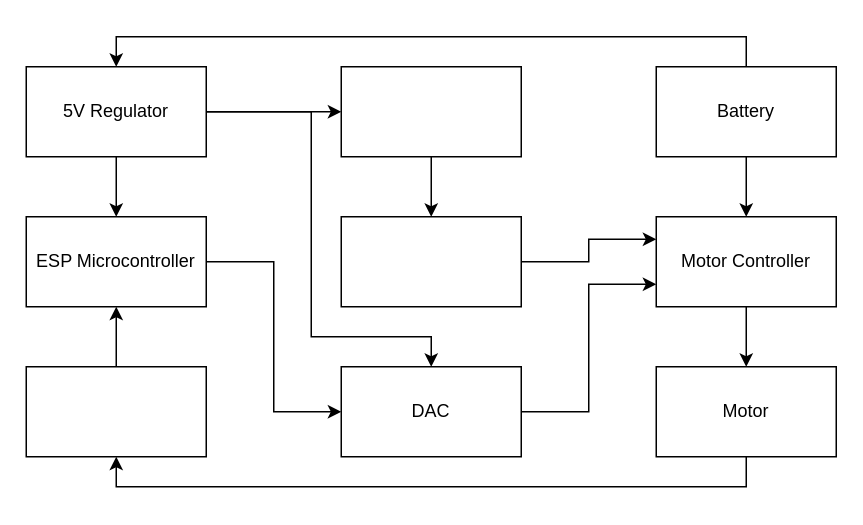
The diagram is 863 pixels wide and 525 high, and some of its shapes have lost their labels. Here are the shapes that lost their labels. From the top down, the box of each, then its label:
(340, 65, 521, 157): Range Sensor
(340, 215, 521, 307): Sensor filter
(25, 365, 206, 457): Current Sensor
